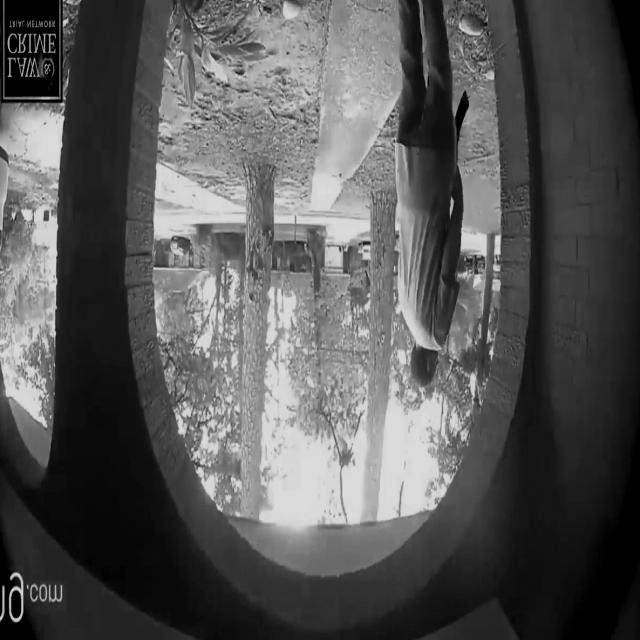weapon: (371, 0, 505, 386)
